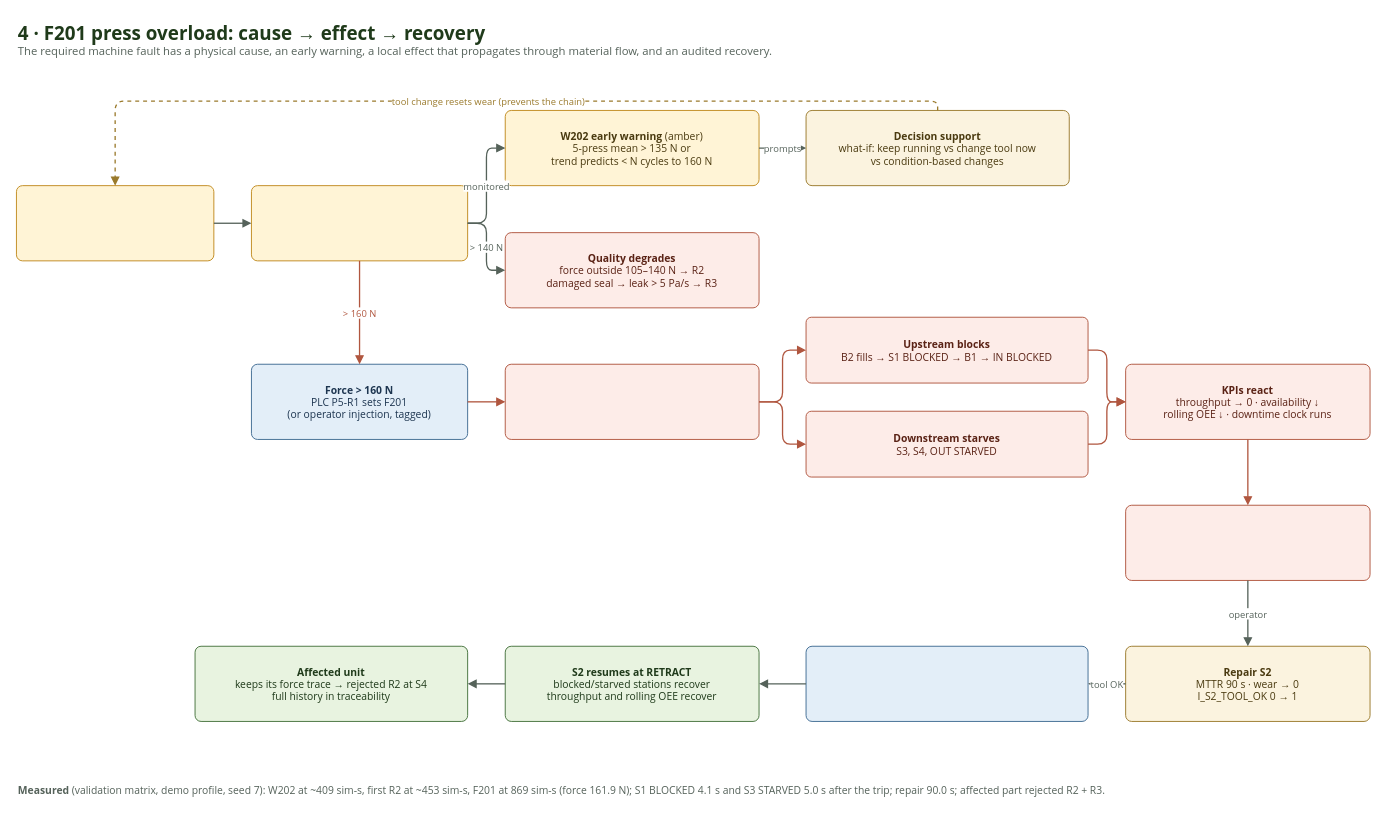
Image size: 1387x840. Some labels were removed from this diagram. Here are the shapes that lost their labels. From the top down, the centre of each, then its label:
the point at 115,223: Tool wear rises +0.004 per press (demo profile +0.010)
the point at 359,223: Press force rises F = 120 + 40·wear + N(0, 4) N
the point at 631,401: S2 → FAULT holds its pallet · outputs off line keeps running (local fault)
the point at 1247,542: Alarm red flashing lamp + horn (PLC P1-R4) dashboard banner · alarm log
the point at 946,683: Reset PLC P8-R2 clears F201 only after repair (early reset refused)
